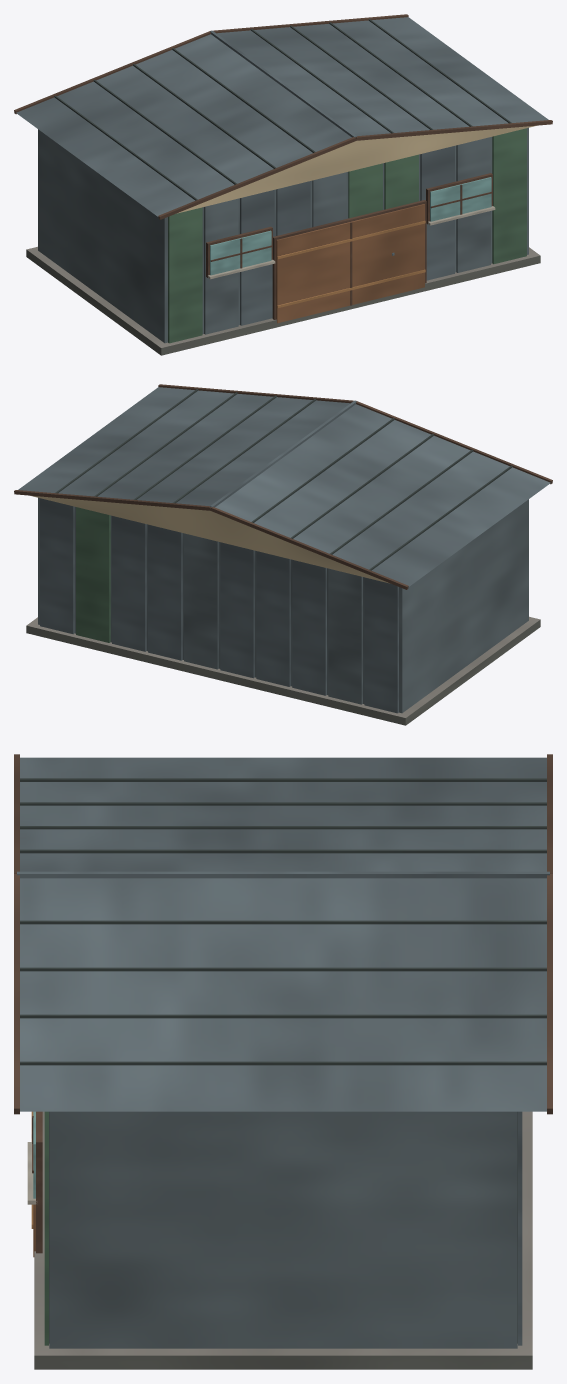
The model's file is warehouse_small.fbx.
3 renders of one model, top to bottom at view 1: azimuth 30°, elevation 25°; view 2: azimuth 150°, elevation 25°; view 3: azimuth 270°, elevation 25°, orthographic. The views are drawn at different scales.
Visible parts, largest first — view 1: warehouse_small; view 2: warehouse_small; view 3: warehouse_small.
Part boxes in pixels (box(x1,y1,x2,y2)): warehouse_small: box(14, 14, 552, 355); warehouse_small: box(14, 384, 552, 725); warehouse_small: box(14, 754, 552, 1369).
Bounding box in the file's own units: 1400 × 600 × 900.
2 materials, 2 textured.
